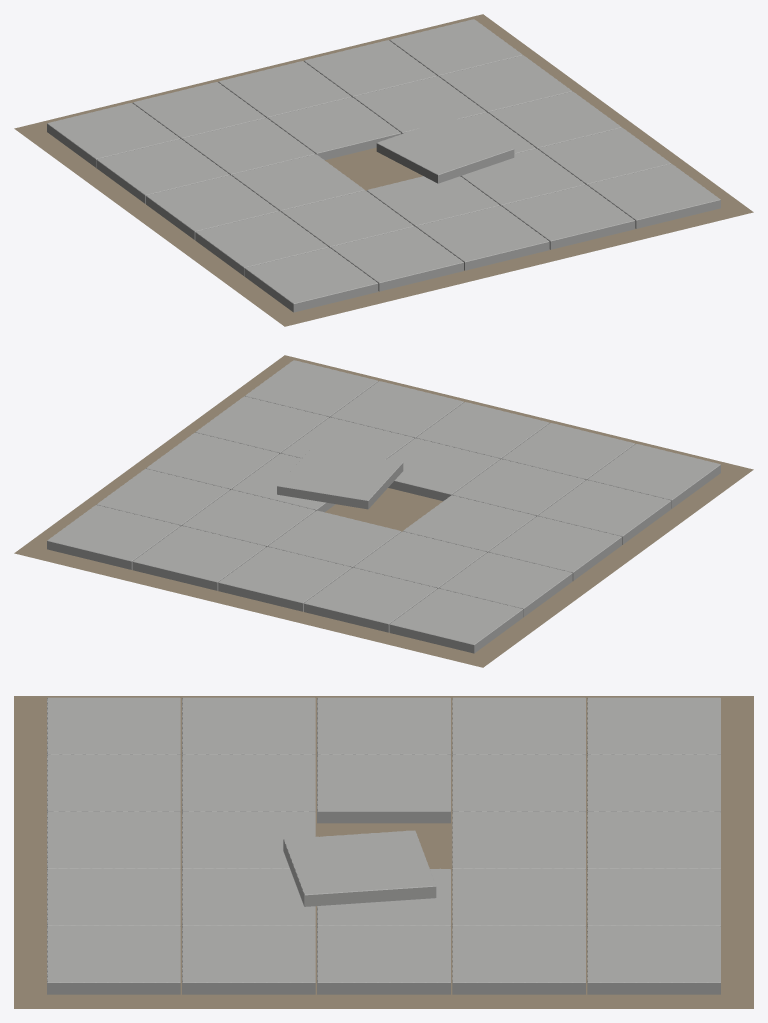
Rendered from terilgan.glb.
3 views of the same model, one above another, from view 1: azimuth 30°, elevation 25°; view 2: azimuth 150°, elevation 25°; view 3: azimuth 270°, elevation 25° (orthographic). The views are drawn at different scales.
Parts seen in each view (by area): view 1: qum, t.012, t, t.015, t.005, t.010, t.020, t.013, t.001, t.002, t.003, t.004 (+14 smaller); view 2: qum, t.004, t.012, t.019, t.009, t.014, t.024, t.002, t.003, t.001, t, t.006 (+14 smaller); view 3: qum, t.012, t.007, t.020, t.021, t.022, t.023, t.024, t, t.001, t.002, t.003 (+14 smaller).
Boxes of the visible parts, x1,y1,x2,y2 form: qum: (14, 14, 753, 326); t.012: (376, 117, 514, 183); t: (244, 247, 378, 312); t.015: (501, 185, 635, 249); t.005: (330, 226, 463, 291); t.010: (416, 205, 549, 270); t.020: (587, 164, 720, 228); t.013: (267, 97, 401, 159); t.001: (195, 211, 328, 276); t.002: (146, 175, 279, 239); t.003: (96, 139, 229, 203); t.004: (47, 103, 180, 167); qum: (14, 355, 753, 667); t.004: (389, 588, 523, 653); t.012: (277, 447, 403, 509); t.019: (132, 526, 266, 590); t.009: (304, 567, 437, 632); t.014: (218, 546, 351, 611); t.024: (47, 505, 180, 569); t.002: (488, 516, 621, 580); t.003: (439, 552, 572, 617); t.001: (538, 480, 671, 544); t: (587, 444, 720, 508); t.006: (452, 459, 585, 516); qum: (14, 696, 753, 1008); t.012: (283, 830, 436, 906); t.007: (317, 754, 450, 823); t.020: (47, 926, 180, 994); t.021: (182, 926, 315, 994); t.022: (317, 926, 450, 994); t.023: (452, 926, 585, 994); t.024: (587, 926, 720, 994); t: (47, 697, 180, 754); t.001: (182, 697, 315, 754); t.002: (317, 697, 450, 754); t.003: (452, 697, 585, 754).
Bounding box in the file's own units: 1.66 × 0.062 × 1.66.
